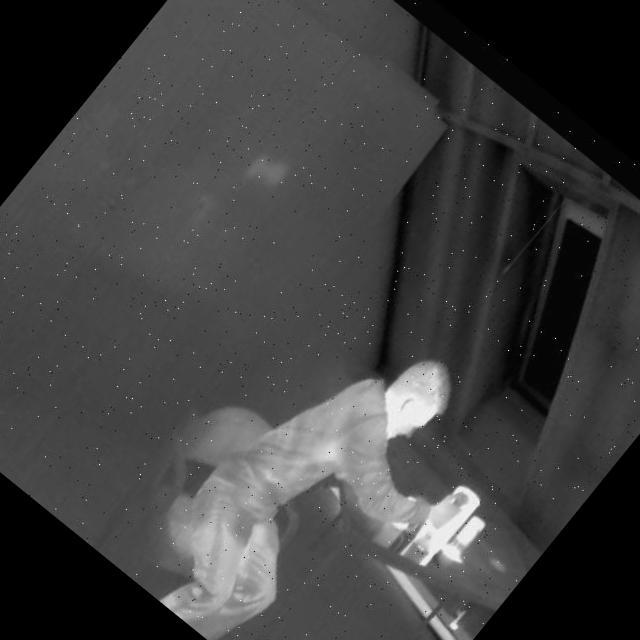person: (118, 277, 517, 640)
